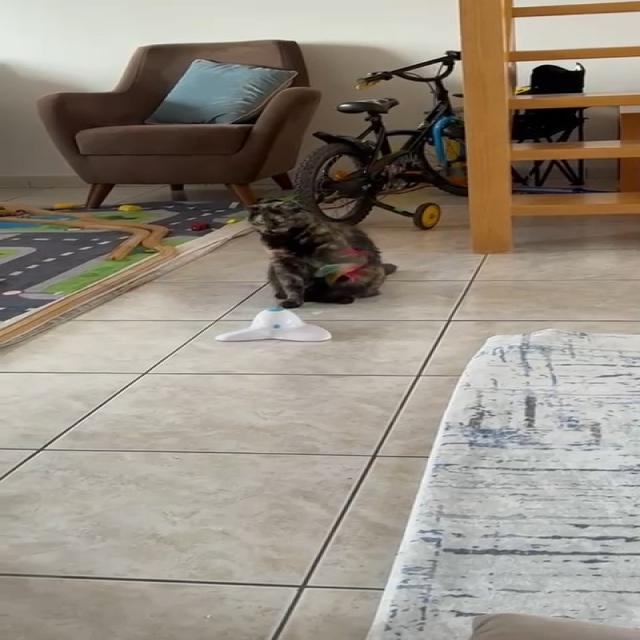authorized: (244, 195, 397, 308)
